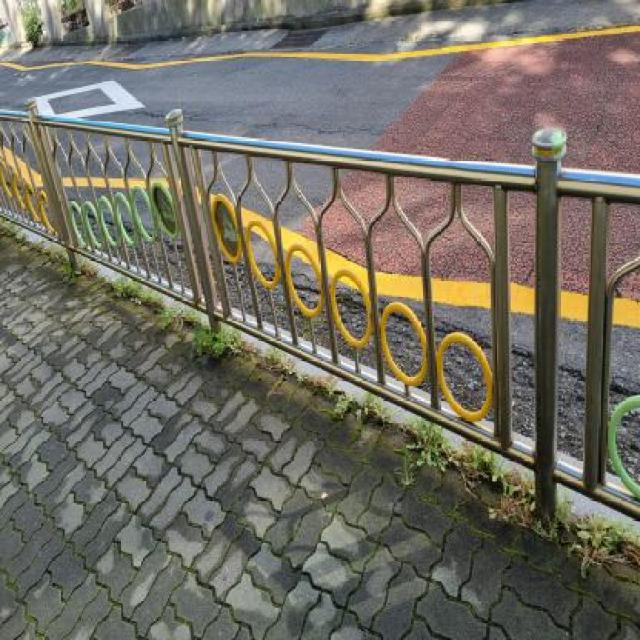fence: (209, 147, 633, 459), (1, 93, 364, 358)
